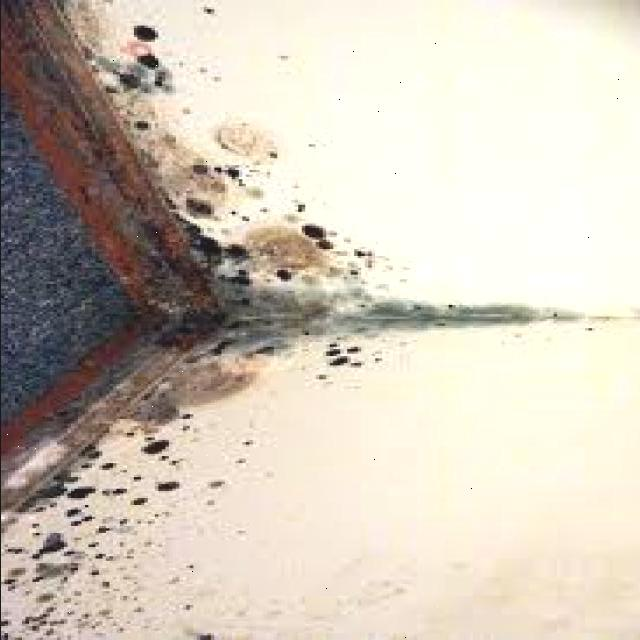crack: (5, 449, 631, 640), (394, 186, 633, 315), (207, 286, 627, 341)
dampness: (26, 24, 261, 423)
